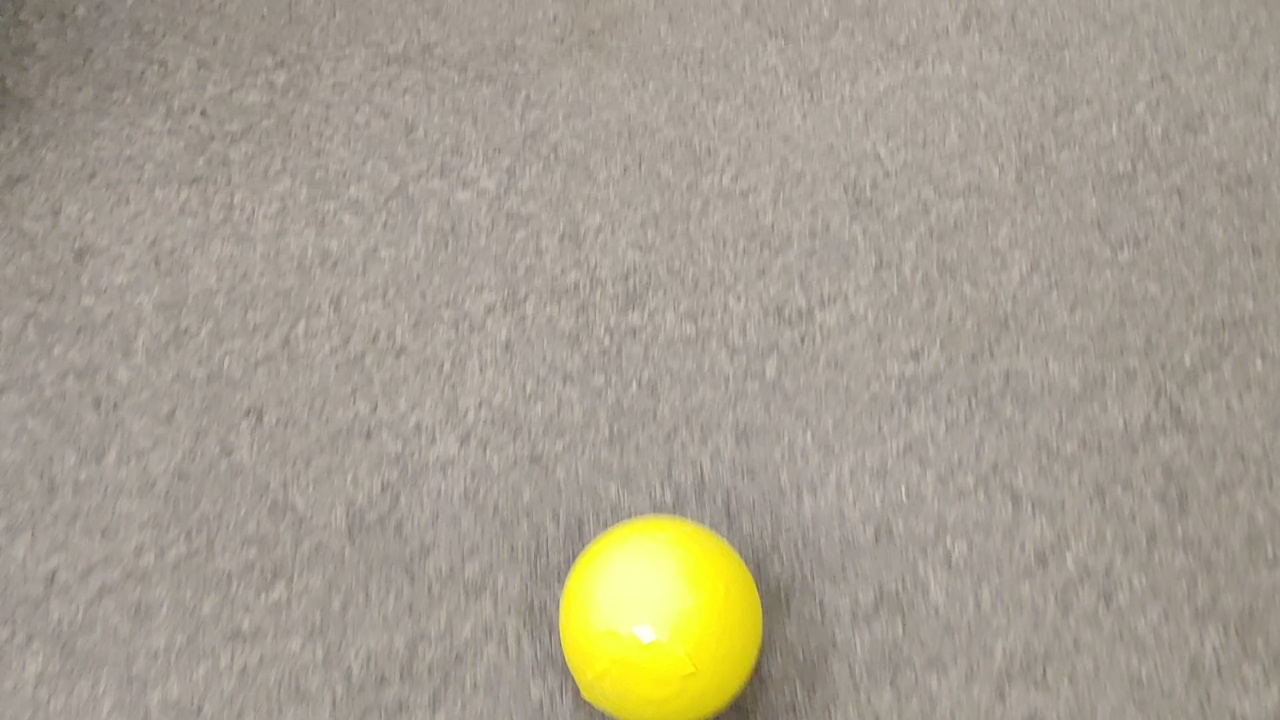Ball: (553, 514, 764, 720)
